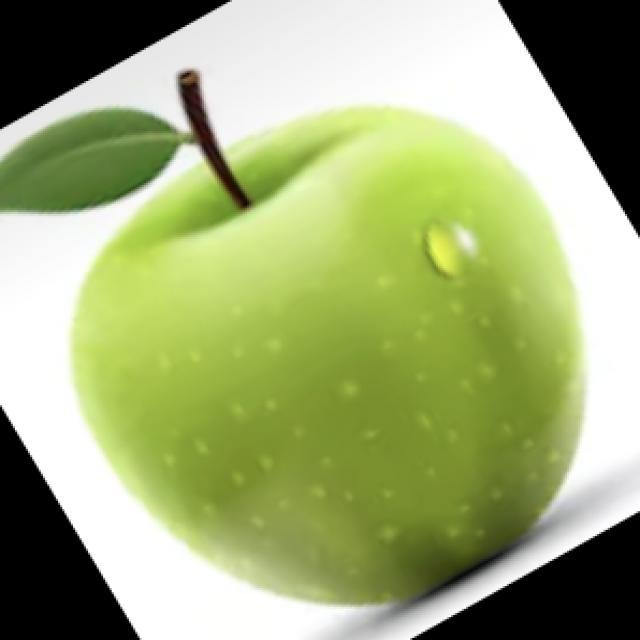Fresh Apple: (89, 117, 588, 610)
